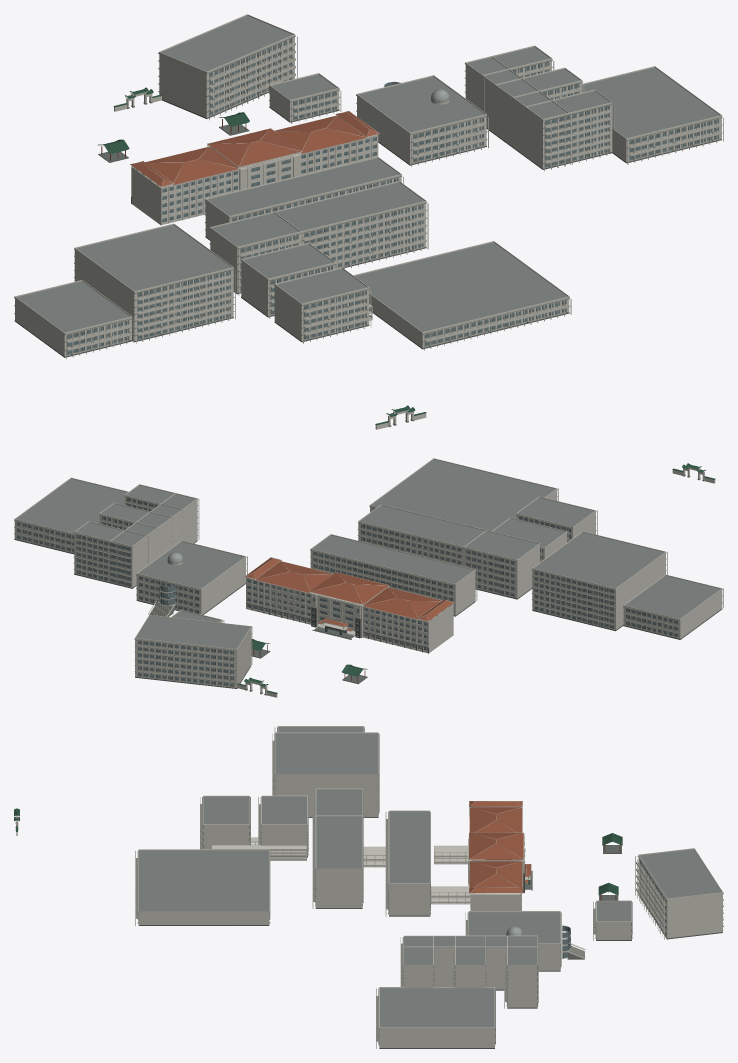
The model's file is architecture.glb.
The picture shows the model from 3 angles, top to bottom: view 1: azimuth 30°, elevation 25°; view 2: azimuth 150°, elevation 25°; view 3: azimuth 270°, elevation 25°; orthographic projection. The views are drawn at different scales.
Visible parts, largest first — view 1: SITE_yishu, SITE_yihao, SITE_dorm_f, SITE_keji, SITE_kexue, SITE_library, SITE_canteen1, SITE_canteen3, SITE_erhao, SITE_sihao, SITE_dorm_m, SITE_dorm_m_n (+5 smaller); view 2: SITE_yihao, SITE_dorm_f, SITE_yishu, SITE_keji, SITE_erhao, SITE_library, SITE_canteen1, SITE_kexue, SITE_canteen3, SITE_chem, SITE_dorm_m_s, SITE_dorm_m (+4 smaller); view 3: SITE_yishu, SITE_canteen1, SITE_dorm_f, SITE_keji, SITE_yihao, SITE_erhao, SITE_kexue, SITE_library, SITE_dorm_m, SITE_sanhao, SITE_sihao, SITE_dorm_m_s (+8 smaller).
Part boxes in pixels (bbox=[...]): SITE_yishu: bbox=[353, 241, 571, 350]; SITE_yihao: bbox=[130, 111, 379, 225]; SITE_dorm_f: bbox=[74, 223, 235, 343]; SITE_keji: bbox=[158, 14, 297, 120]; SITE_kexue: bbox=[274, 181, 428, 268]; SITE_library: bbox=[356, 75, 488, 166]; SITE_canteen1: bbox=[582, 66, 723, 164]; SITE_canteen3: bbox=[14, 280, 133, 358]; SITE_erhao: bbox=[205, 156, 403, 240]; SITE_sihao: bbox=[274, 267, 371, 343]; SITE_dorm_m: bbox=[465, 56, 571, 170]; SITE_dorm_m_n: bbox=[525, 89, 614, 170]; SITE_yihao: bbox=[245, 557, 454, 653]; SITE_dorm_f: bbox=[531, 531, 667, 631]; SITE_yishu: bbox=[369, 458, 558, 531]; SITE_keji: bbox=[134, 615, 252, 688]; SITE_erhao: bbox=[310, 534, 477, 616]; SITE_library: bbox=[136, 540, 247, 616]; SITE_canteen1: bbox=[14, 477, 128, 554]; SITE_kexue: bbox=[357, 504, 486, 566]; SITE_canteen3: bbox=[623, 574, 723, 639]; SITE_chem: bbox=[463, 530, 541, 599]; SITE_dorm_m_s: bbox=[73, 521, 148, 588]; SITE_dorm_m: bbox=[109, 493, 197, 588]; SITE_yishu: bbox=[135, 849, 270, 925]; SITE_canteen1: bbox=[376, 987, 495, 1048]; SITE_dorm_f: bbox=[272, 732, 379, 817]; SITE_keji: bbox=[635, 848, 723, 939]; SITE_yihao: bbox=[468, 801, 532, 910]; SITE_erhao: bbox=[385, 810, 430, 916]; SITE_kexue: bbox=[312, 815, 363, 908]; SITE_library: bbox=[465, 911, 585, 971]; SITE_dorm_m: bbox=[400, 935, 538, 990]; SITE_sanhao: bbox=[258, 795, 308, 857]; SITE_sihao: bbox=[200, 795, 250, 849]; SITE_dorm_m_s: bbox=[504, 936, 538, 1008].
Bounding box in the file's own units: 383 × 25.91 × 381.
Materials: 12 (3 with a texture image).
